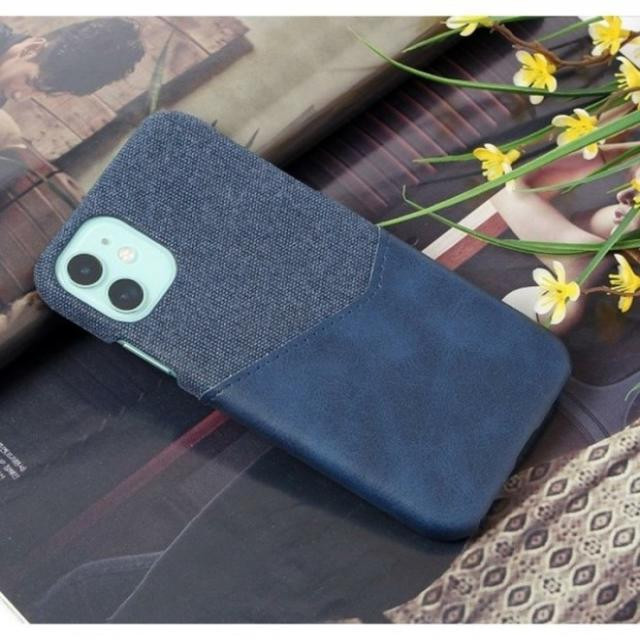phone: (28, 108, 576, 546)
